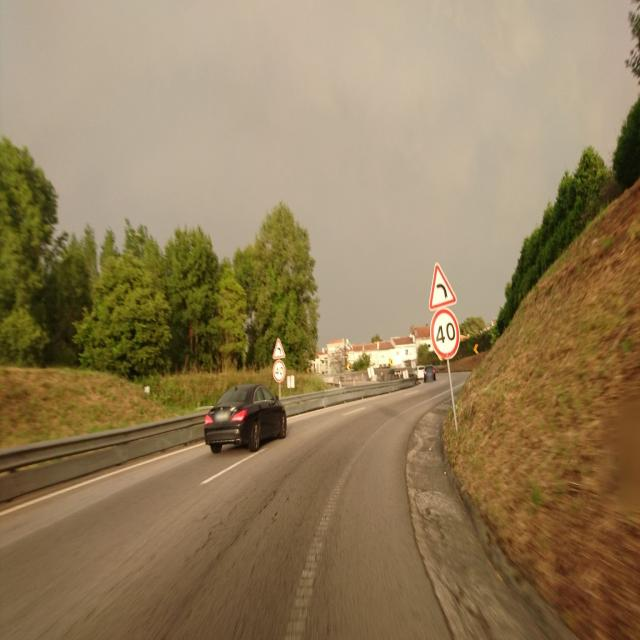car: (204, 382, 288, 454), (415, 365, 437, 383)
